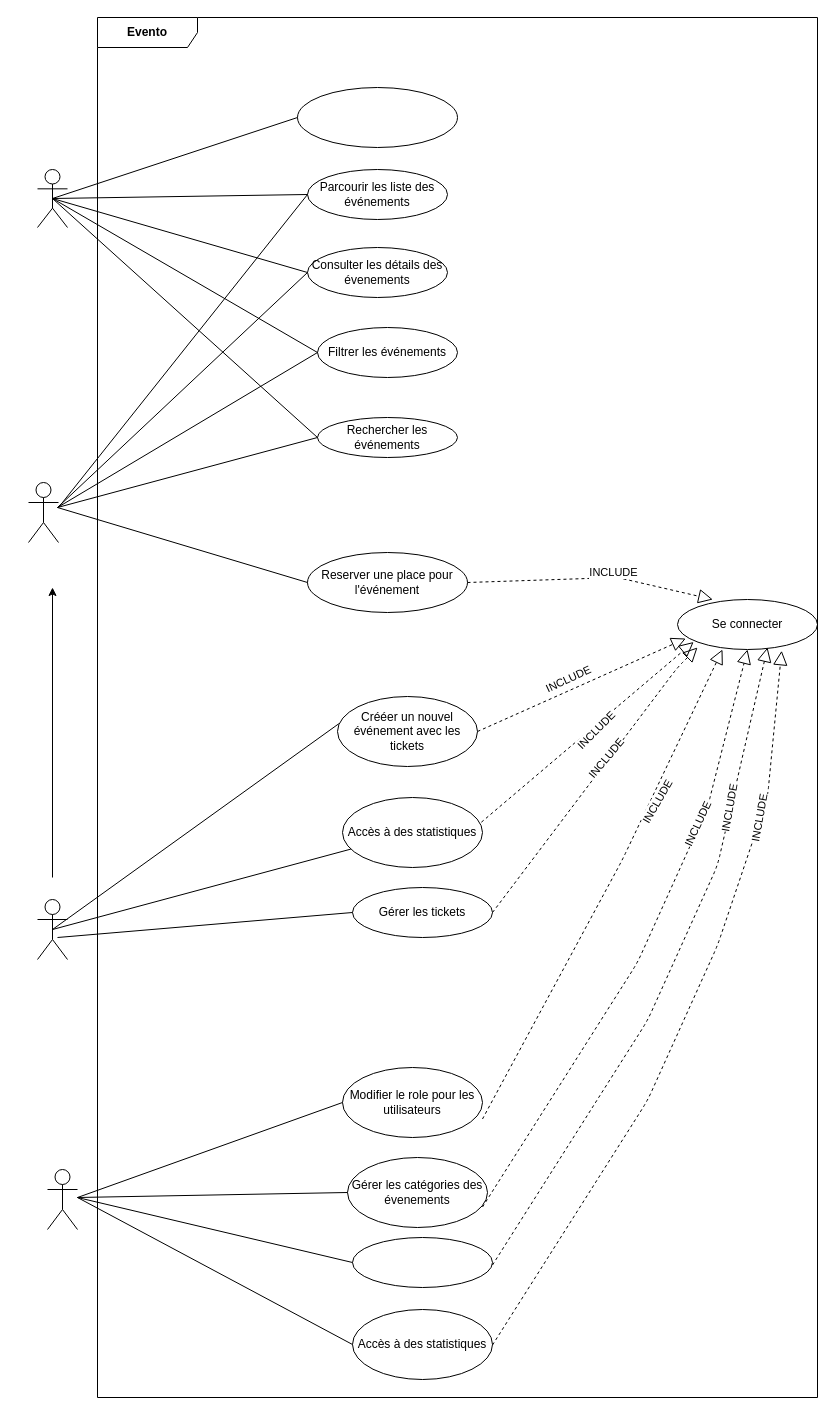
This 835x1415 diagram has some shape labels left out. Each missing label, with the centre of its shape:
"Admin" belongs at [62,1199].
"Organisateur" belongs at [52,929].
"S'incrire" belongs at [377,117].
"Utilisateur" belongs at [43,512].
"Valider les évenemnts créés" belongs at [422,1262].
"Visiteur" belongs at [52,198].
